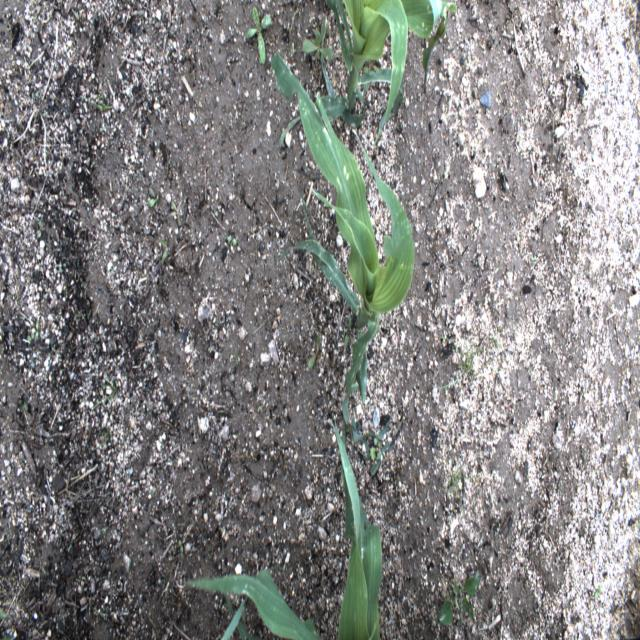crop: (266, 54, 416, 472), (182, 422, 384, 639), (280, 0, 460, 144)
weed: (298, 20, 333, 99), (243, 0, 277, 73), (438, 570, 479, 630), (146, 190, 160, 214)
